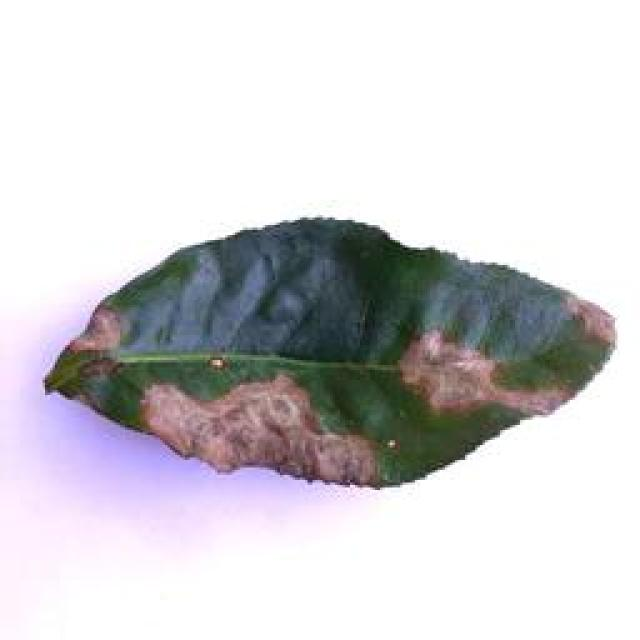Gray Blight: (43, 215, 612, 491)
